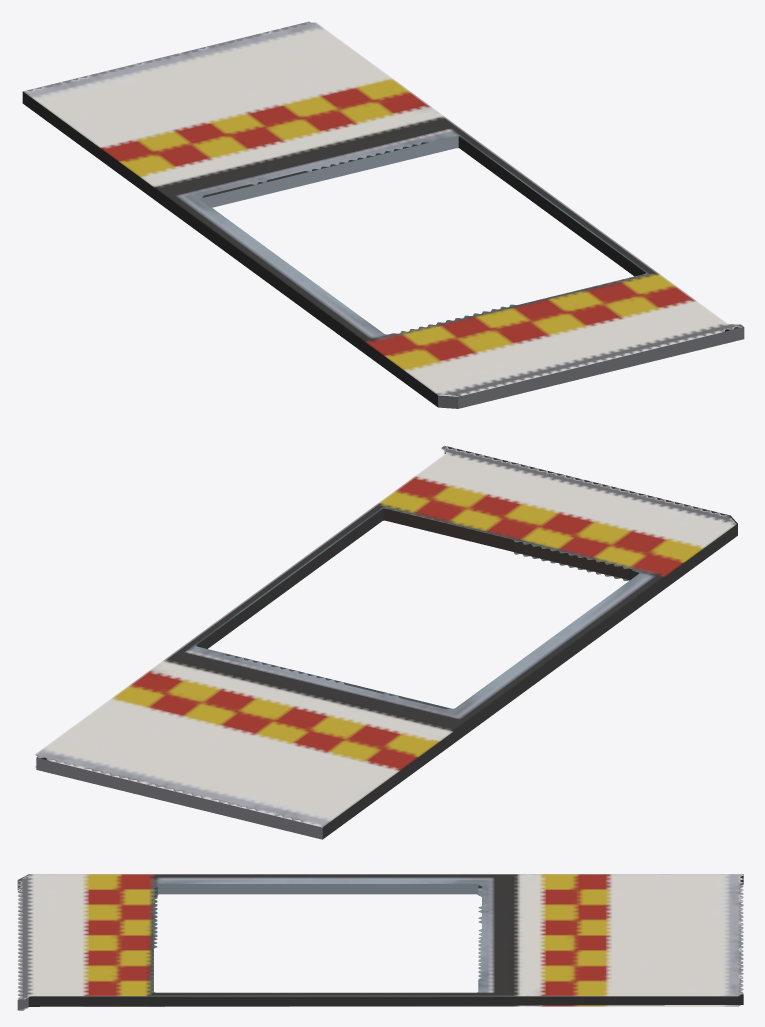
File: pz_native_location_shop_gas2go_01_9_frame.obj
The picture shows the model from 3 angles, top to bottom: view 1: azimuth 30°, elevation 25°; view 2: azimuth 150°, elevation 25°; view 3: azimuth 270°, elevation 25°; orthographic projection. The views are drawn at different scales.
Parts seen in each view (by area): view 1: pz_native_location_shop_gas2go_01_9_frame; view 2: pz_native_location_shop_gas2go_01_9_frame; view 3: pz_native_location_shop_gas2go_01_9_frame.
Part boxes in pixels (bbox=[...]): pz_native_location_shop_gas2go_01_9_frame: bbox=[22, 21, 744, 408]; pz_native_location_shop_gas2go_01_9_frame: bbox=[35, 446, 737, 839]; pz_native_location_shop_gas2go_01_9_frame: bbox=[17, 874, 743, 1010].
Size of the model in its own units: 1.06 by 0.04 by 2.55.
1 material, 1 textured.
